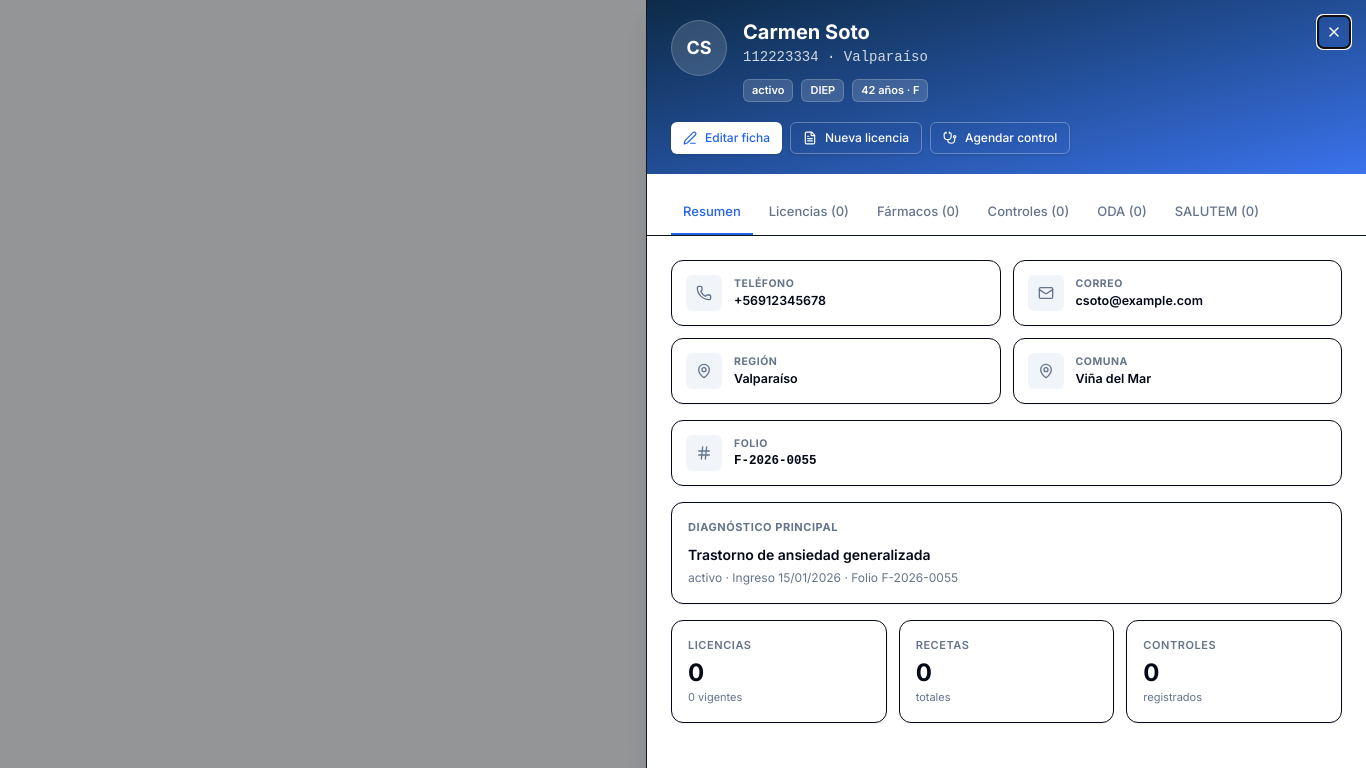
Scenario: PatientSheet — editar ficha (BUG-2608-01) › abre el formulario con los datos actuales y RUT y folio de solo lectura
What coordinates should you click on to do the following:
click the button "Editar ficha"
I would click on:
 (726, 138)
Its box is [671,122,782,154].
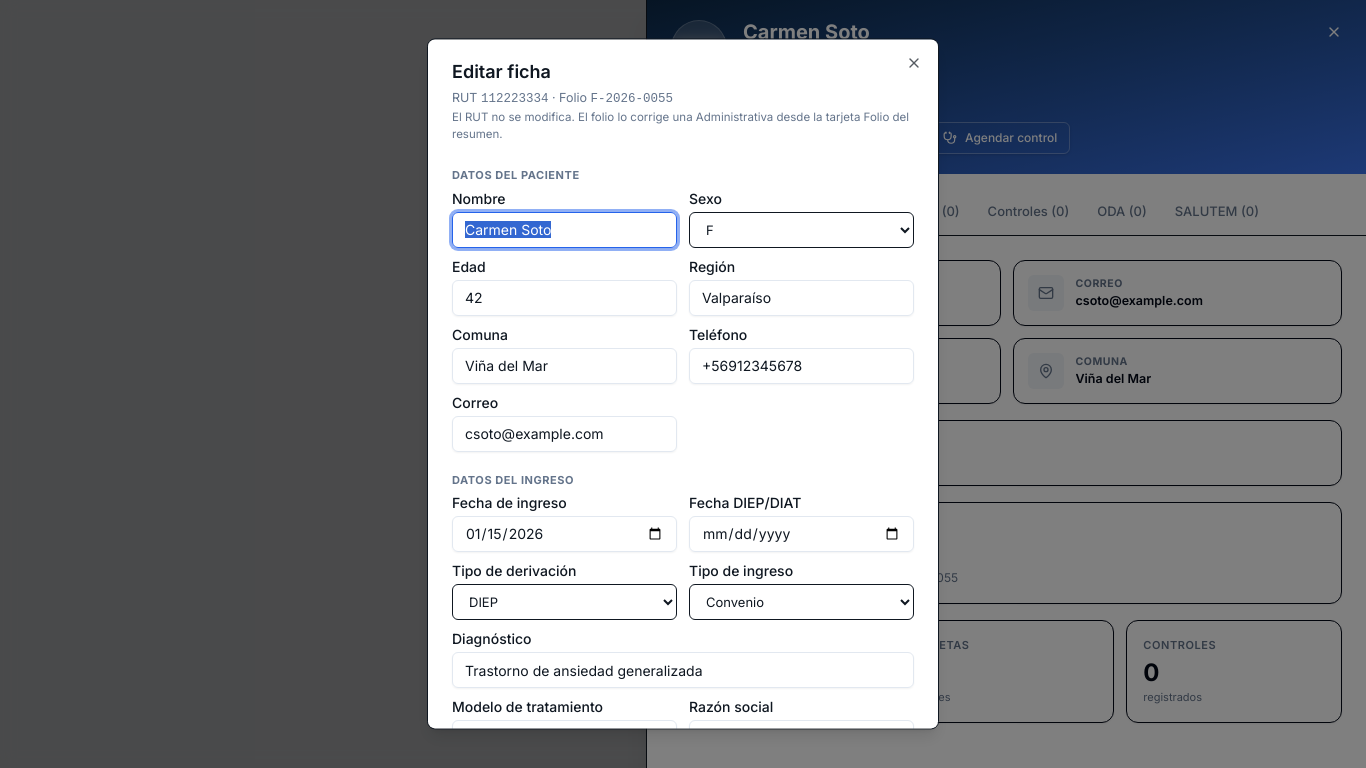
Now the field labelled "Nombre" holds "Carmen Soto", box [452,212,677,248]
Now the field labelled "Diagnóstico" holds "Trastorno de ansiedad generalizada", box [452,653,914,689]
Now the date field labelled "Fecha de ingreso" holds "2026-01-15", box [452,517,677,553]
